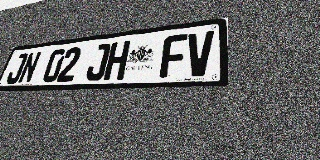0: (41, 48, 67, 83)
2: (56, 46, 83, 82)
F: (159, 34, 188, 78)
H: (103, 40, 131, 80)
J: (84, 43, 111, 81), (5, 53, 29, 84)
N: (17, 51, 42, 84)
V: (185, 31, 214, 77)
